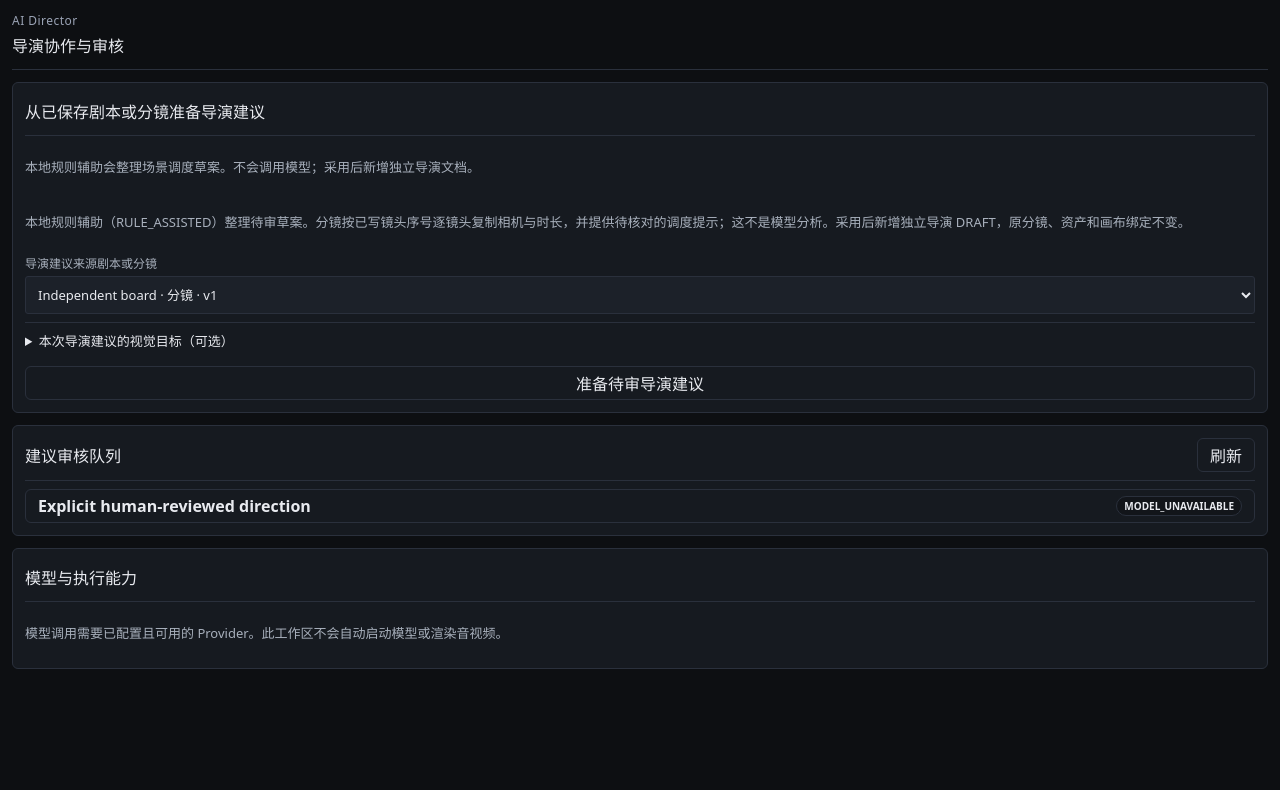
it: does not label an original private task as uncalled rule output or expose legacy adoption
Step 1. Click the button "Explicit human-reviewed direction MODEL_UNAVAILABLE" → (174, 506), box [25,489,1255,523]
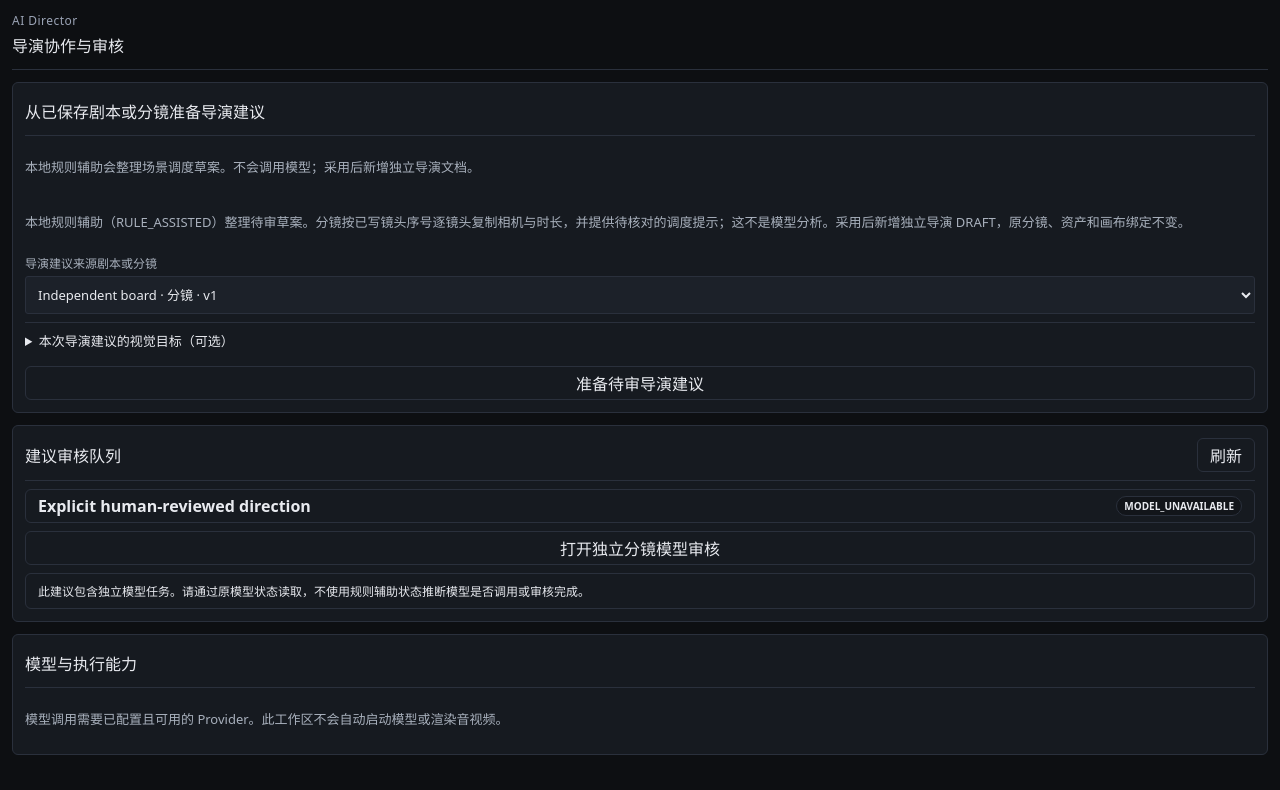
Expected: the text "此建议包含独立模型任务。请通过原模型状态读取，不使用规则辅助状态推断模型是否调用或审核完成。" is shown, [25,573,1255,609]
Step 2. Click the button "打开独立分镜模型审核" → (640, 548), box [25,531,1255,565]
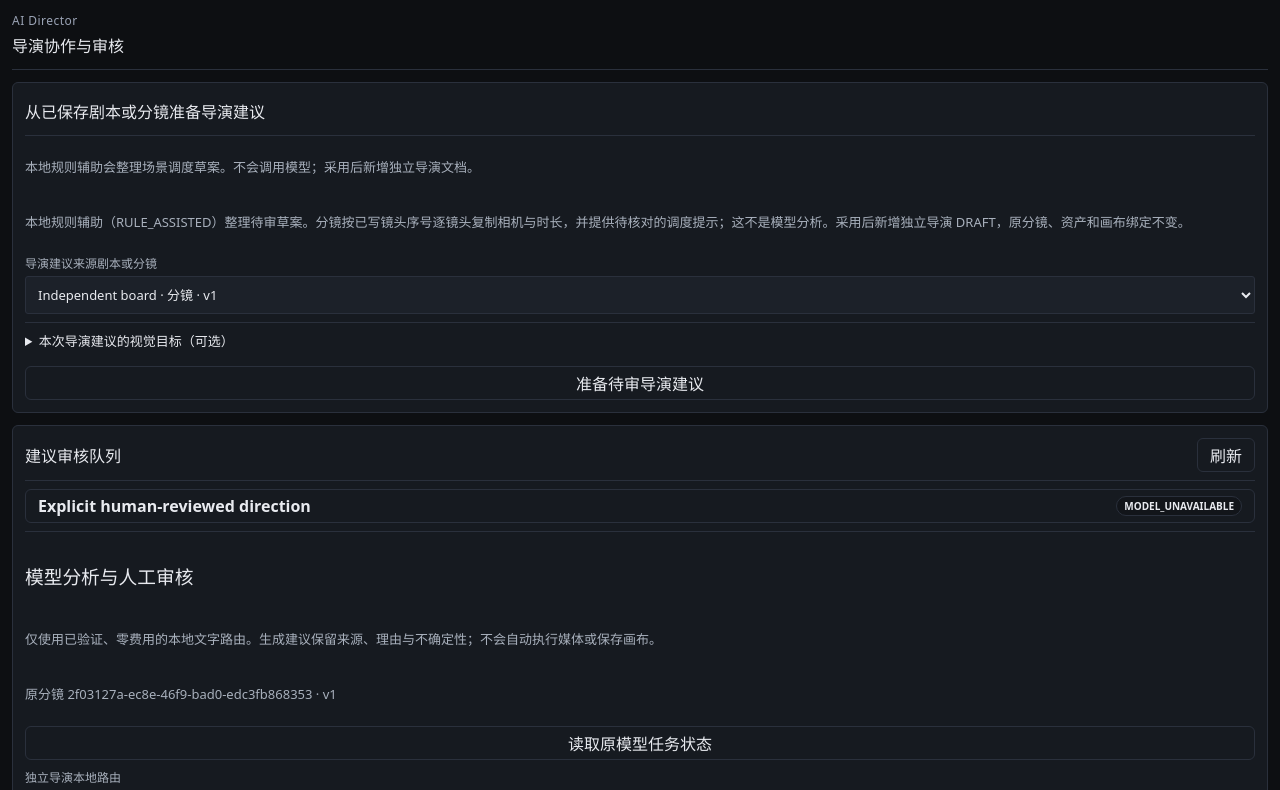
Expected: the button "读取原模型任务状态" is shown, [25,726,1255,760]
